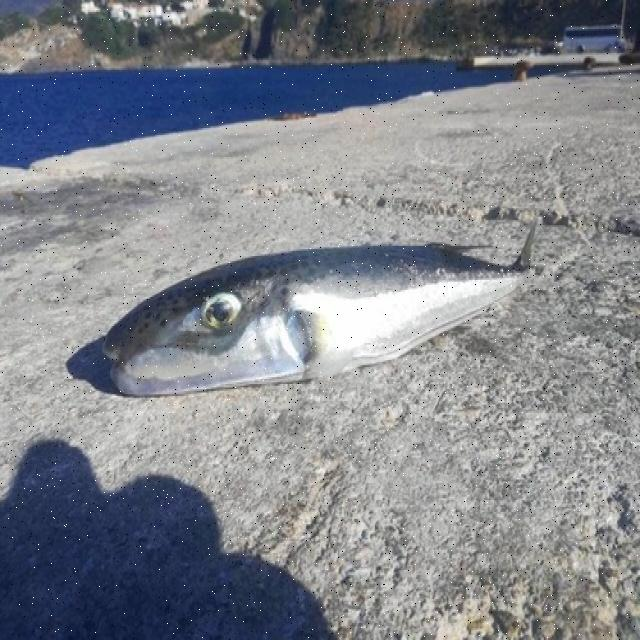Balik: (104, 224, 535, 395)
